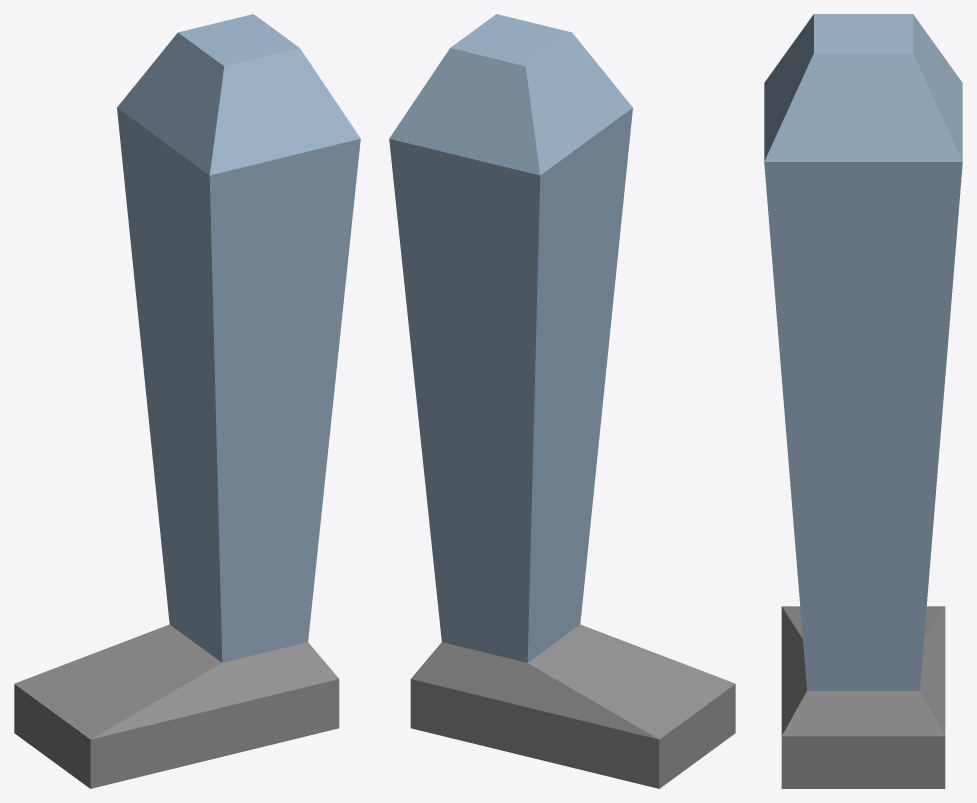
Rendered from GuardLowerLeg.fbx.
The picture shows the model from 3 angles, left to right: view 1: azimuth 30°, elevation 25°; view 2: azimuth 150°, elevation 25°; view 3: azimuth 270°, elevation 25°; orthographic projection. The views are drawn at different scales.
Visible parts, largest first — view 1: GuardLowerLeg; view 2: GuardLowerLeg; view 3: GuardLowerLeg.
Boxes of the visible parts, x1=… form: GuardLowerLeg: x1=14, y1=14, x2=360, y2=788; GuardLowerLeg: x1=389, y1=14, x2=735, y2=788; GuardLowerLeg: x1=764, y1=14, x2=962, y2=788.
Size of the model in its own units: 0.272 by 0.6698 by 0.1668.
